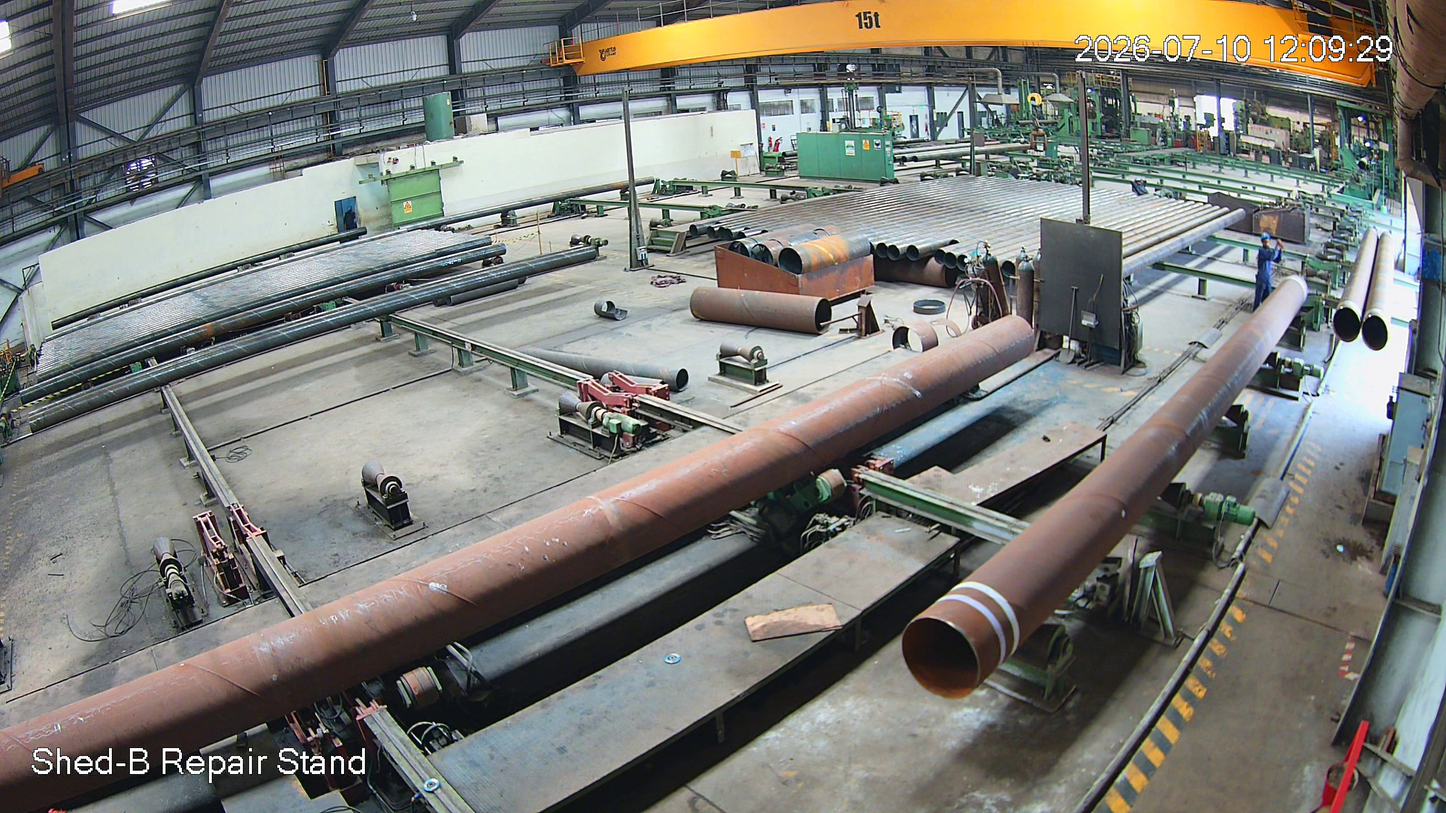Helmet: (1259, 229, 1277, 249)
Person: (1256, 230, 1283, 304)
